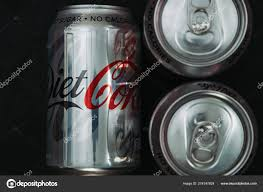can: (47, 6, 143, 168), (149, 82, 259, 180), (142, 0, 253, 70)
